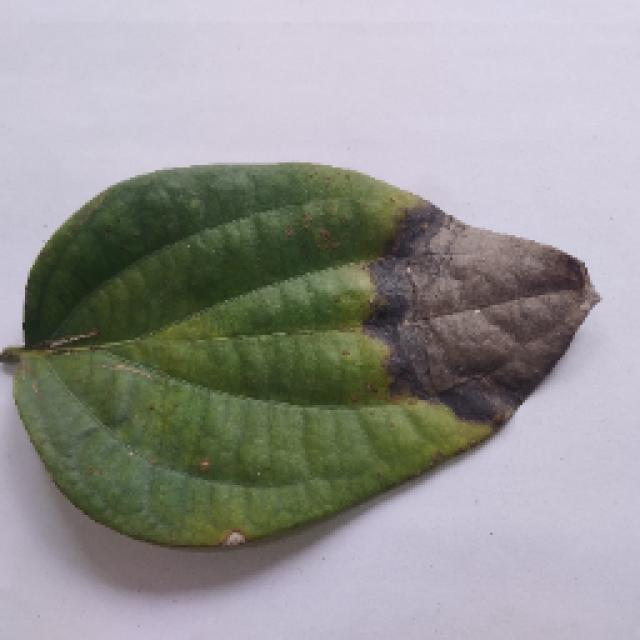footrot: (0, 163, 598, 565)
